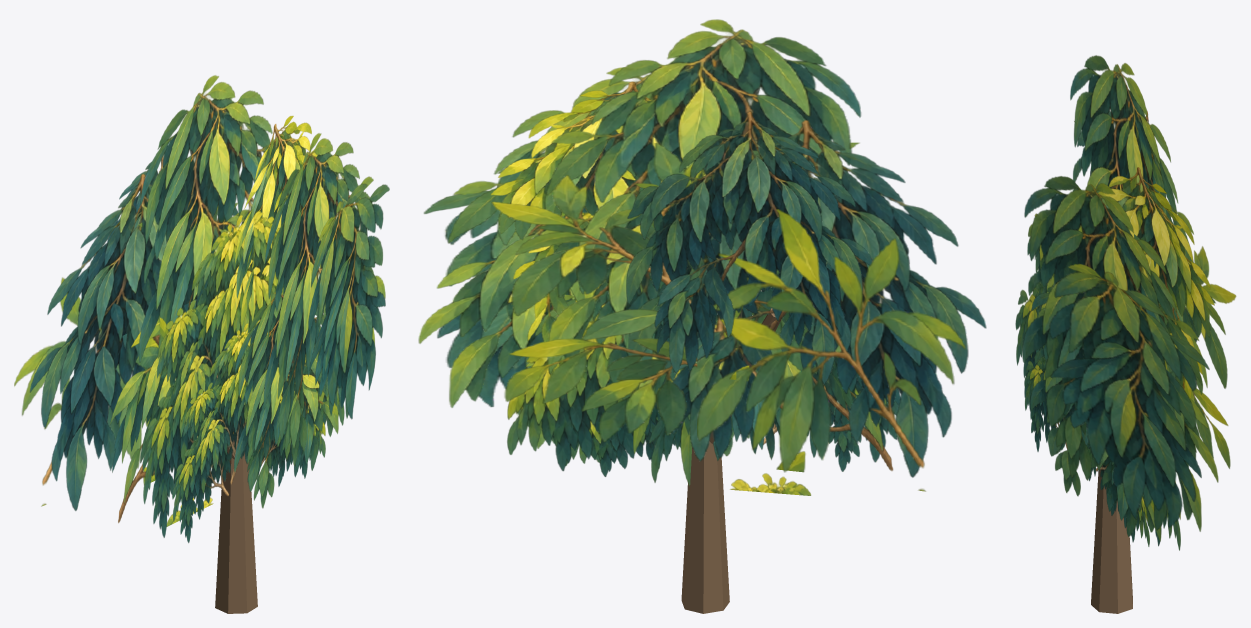
File: TREE_NATIVE_ROUNDED_001_V4_TOP_CORRECTED_LOD_CLOSE.glb
3 views of the same model, side by side, from view 1: azimuth 30°, elevation 25°; view 2: azimuth 150°, elevation 25°; view 3: azimuth 270°, elevation 25° (orthographic). The views are drawn at different scales.
Visible parts, largest first — view 1: GG_NATIVE_RICH_CARD_01, GG_NATIVE_RICH_CARD_00, GG_NATIVE_RICH_CARD_03, GG_NATIVE_RICH_CARD_02, GG_NATIVE_RICH_CARD_05, GG_NATIVE_RICH_CARD_11, GG_NATIVE_RICH_CARD_08, GG_NATIVE_V4_LOCKED_CARCASS_00, GG_NATIVE_RICH_CARD_10, GG_NATIVE_RICH_CARD_07, GG_NATIVE_RICH_CARD_04, GG_NATIVE_RICH_CARD_09; view 2: GG_NATIVE_RICH_CARD_00, GG_NATIVE_RICH_CARD_09, GG_NATIVE_RICH_CARD_01, GG_NATIVE_RICH_CARD_04, GG_NATIVE_RICH_CARD_06, GG_NATIVE_RICH_CARD_02, GG_NATIVE_RICH_CARD_03, GG_NATIVE_RICH_CARD_10, GG_NATIVE_RICH_CARD_07, GG_NATIVE_V4_LOCKED_CARCASS_00, GG_NATIVE_RICH_CARD_05, GG_NATIVE_RICH_CARD_11; view 3: GG_NATIVE_RICH_CARD_05, GG_NATIVE_RICH_CARD_02, GG_NATIVE_RICH_CARD_00, GG_NATIVE_RICH_CARD_10, GG_NATIVE_V4_LOCKED_CARCASS_00, GG_NATIVE_RICH_CARD_08, GG_NATIVE_RICH_CARD_06, GG_NATIVE_RICH_CARD_11, GG_NATIVE_RICH_CARD_03.
Boxes of the visible parts, x1,y1,x2,y2 form: GG_NATIVE_RICH_CARD_01: (30,173,218,510); GG_NATIVE_RICH_CARD_00: (138,75,291,378); GG_NATIVE_RICH_CARD_03: (142,182,344,537); GG_NATIVE_RICH_CARD_02: (263,133,385,466); GG_NATIVE_RICH_CARD_05: (308,183,389,419); GG_NATIVE_RICH_CARD_11: (172,319,325,543); GG_NATIVE_RICH_CARD_08: (234,287,338,508); GG_NATIVE_V4_LOCKED_CARCASS_00: (215,440,257,613); GG_NATIVE_RICH_CARD_10: (235,116,317,326); GG_NATIVE_RICH_CARD_07: (110,299,258,526); GG_NATIVE_RICH_CARD_04: (14,277,158,506); GG_NATIVE_RICH_CARD_09: (107,146,237,381); GG_NATIVE_RICH_CARD_00: (540,19,861,399); GG_NATIVE_RICH_CARD_09: (626,111,872,384); GG_NATIVE_RICH_CARD_01: (628,120,986,477); GG_NATIVE_RICH_CARD_04: (697,209,965,491); GG_NATIVE_RICH_CARD_06: (491,142,859,442); GG_NATIVE_RICH_CARD_02: (418,67,655,426); GG_NATIVE_RICH_CARD_03: (507,170,898,471); GG_NATIVE_RICH_CARD_10: (490,81,665,342); GG_NATIVE_RICH_CARD_07: (618,306,900,495); GG_NATIVE_V4_LOCKED_CARCASS_00: (681,441,729,613); GG_NATIVE_RICH_CARD_05: (424,167,545,406); GG_NATIVE_RICH_CARD_11: (565,388,865,476); GG_NATIVE_RICH_CARD_05: (1049,263,1209,527); GG_NATIVE_RICH_CARD_02: (1022,176,1218,531); GG_NATIVE_RICH_CARD_00: (1070,55,1207,402); GG_NATIVE_RICH_CARD_10: (1078,167,1214,398); GG_NATIVE_V4_LOCKED_CARCASS_00: (1091,470,1132,613); GG_NATIVE_RICH_CARD_08: (1030,286,1161,541); GG_NATIVE_RICH_CARD_06: (1074,121,1236,468); GG_NATIVE_RICH_CARD_11: (1024,311,1149,546); GG_NATIVE_RICH_CARD_03: (1015,213,1180,550).
Size of the model in its own units: 37.71 by 44.23 by 16.66.
2 materials, 1 textured.
